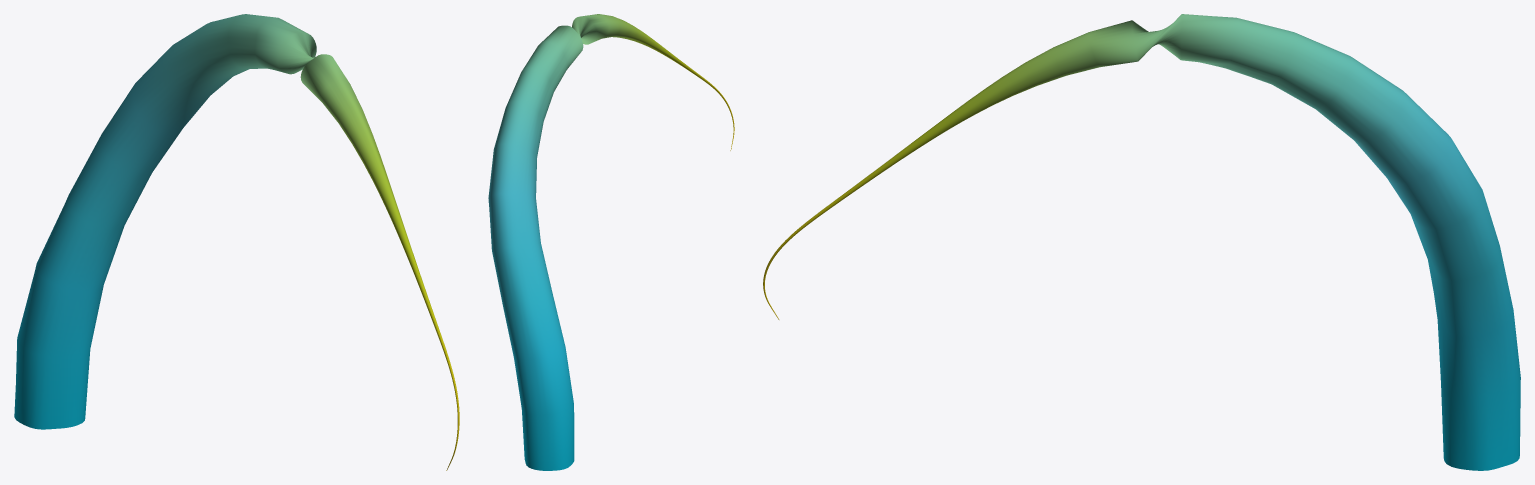
File: Tentacle_B.fbx
The picture shows the model from 3 angles, left to right: view 1: azimuth 30°, elevation 25°; view 2: azimuth 150°, elevation 25°; view 3: azimuth 270°, elevation 25°; orthographic projection. The views are drawn at different scales.
Parts seen in each view (by area): view 1: Tentacle_B_LOD0; view 2: Tentacle_B_LOD0; view 3: Tentacle_B_LOD0.
Part boxes in pixels (x1,y1,x2,y2): Tentacle_B_LOD0: (14, 14, 459, 470); Tentacle_B_LOD0: (488, 14, 734, 470); Tentacle_B_LOD0: (763, 14, 1520, 470).
Size of what is drawn, in the model's own units: 5.07 by 13.76 by 18.95.
